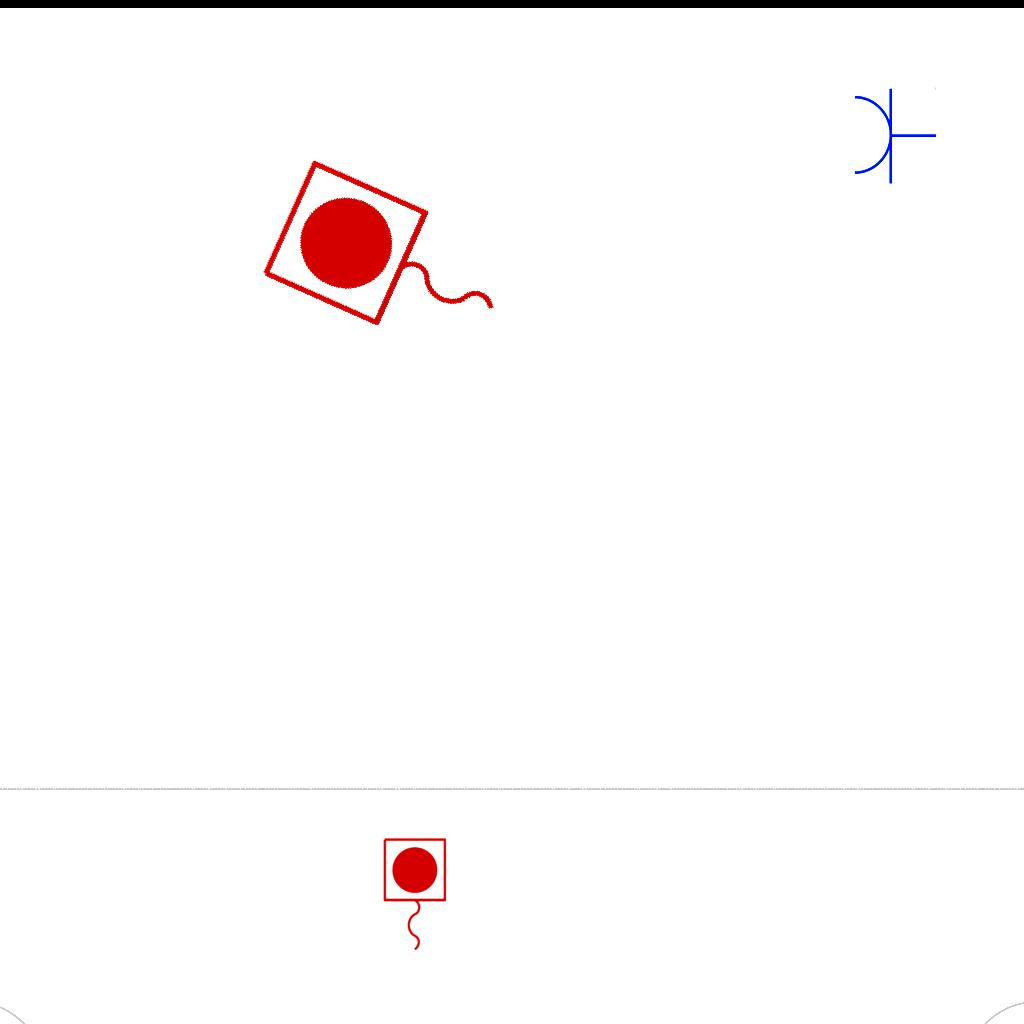Schukosteckdose_einfach: (850, 85, 937, 185)
Zugtaster: (250, 149, 532, 381), (378, 834, 450, 956)
